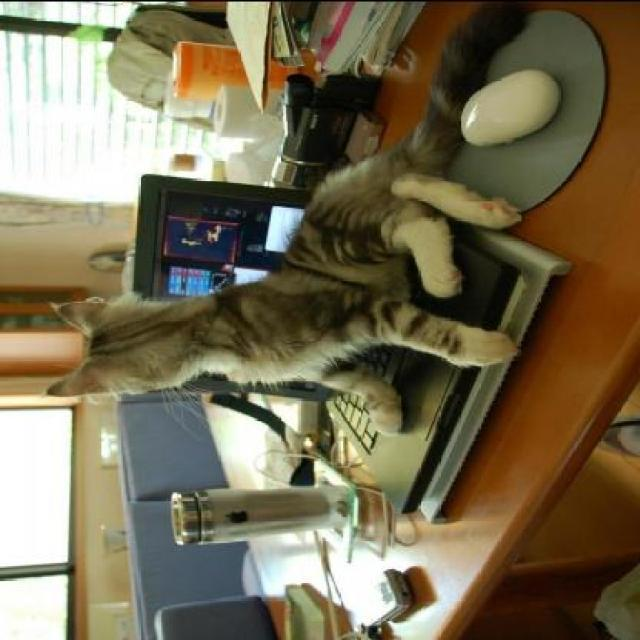phone: (346, 566, 417, 628), (314, 401, 336, 458)
